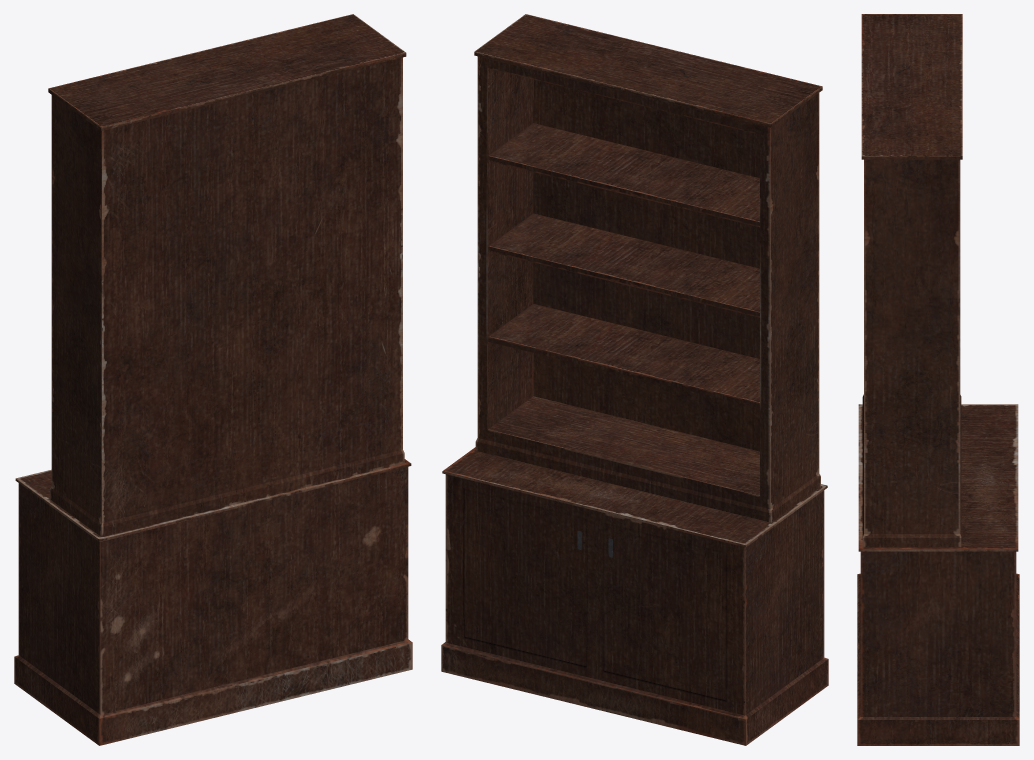
The model's file is ARC0510169.fbx.
3 views of the same model, side by side, from view 1: azimuth 30°, elevation 25°; view 2: azimuth 150°, elevation 25°; view 3: azimuth 270°, elevation 25° (orthographic). The views are drawn at different scales.
Visible parts, largest first — view 1: smARC0510169; view 2: smARC0510169; view 3: smARC0510169.
Part boxes in pixels (box(x1,y1,x2,y2)): smARC0510169: box(14, 14, 412, 745); smARC0510169: box(441, 14, 828, 745); smARC0510169: box(857, 14, 1019, 745).
Size of the model in its own units: 147 by 276 by 69.01.
Materials: 1 (1 with a texture image).
